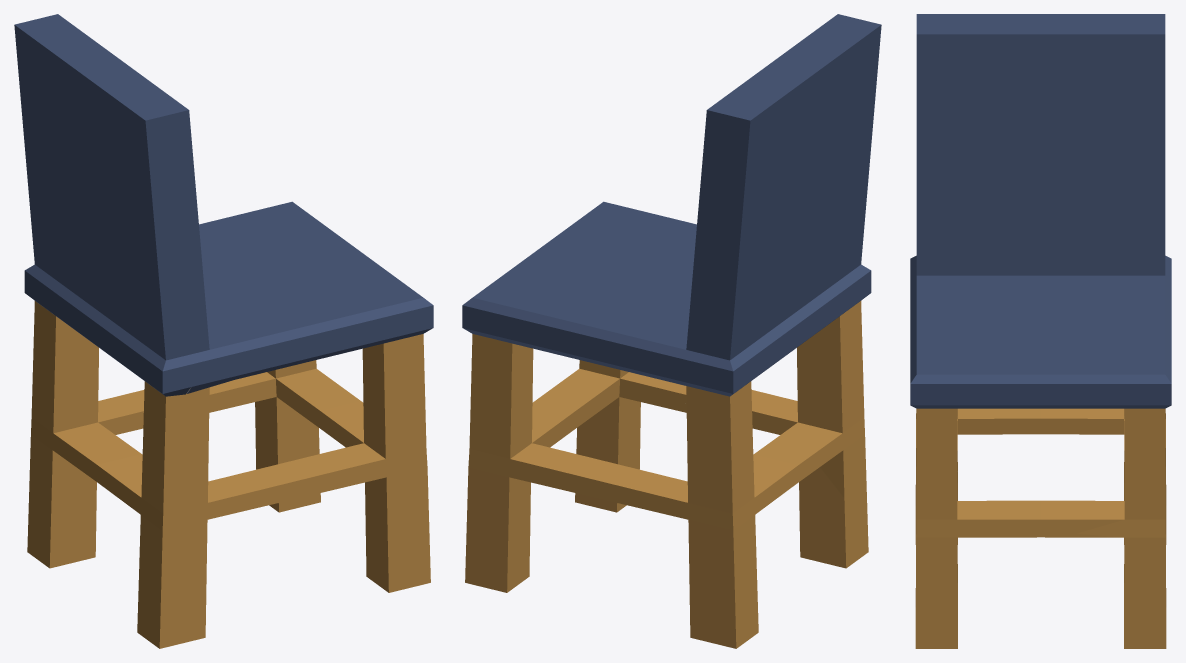
Rendered from chair.fbx.
3 views of the same model, side by side, from view 1: azimuth 30°, elevation 25°; view 2: azimuth 150°, elevation 25°; view 3: azimuth 270°, elevation 25° (orthographic). The views are drawn at different scales.
Visible parts, largest first — view 1: Cube, Cube_cell.009, Cube_cell.011, Cube_cell.004, Cube_cell.003, Cube_cell.001, Cube_cell.007, Cube_cell.010, Cube_cell.008, Cube_cell.013, Cube_cell.014, Cube_cell.015 (+3 smaller); view 2: Cube, Cube_cell.010, Cube_cell.008, Cube_cell.007, Cube_cell.003, Cube_cell.009, Cube_cell.011, Cube_cell.004, Cube_cell.014, Cube_cell.015, Cube_cell, Cube_cell.013 (+4 smaller); view 3: Cube, Cube_cell.004, Cube_cell.009, Cube_cell.015, Cube_cell.010, Cube_cell.003, Cube_cell.008, Cube_cell.001, Cube_cell.007, Cube_cell.014.
Boxes of the visible parts, box(x1,y1,x2,y2) form: Cube: box(14, 14, 433, 648); Cube_cell.009: box(247, 208, 433, 391); Cube_cell.011: box(78, 170, 207, 381); Cube_cell.004: box(42, 51, 199, 242); Cube_cell.003: box(24, 116, 88, 333); Cube_cell.001: box(181, 289, 297, 456); Cube_cell.007: box(29, 355, 144, 498); Cube_cell.010: box(33, 201, 300, 360); Cube_cell.008: box(209, 368, 334, 512); Cube_cell.013: box(82, 325, 191, 466); Cube_cell.014: box(100, 452, 163, 572); Cube_cell.015: box(302, 396, 422, 582); Cube: box(463, 14, 880, 648); Cube_cell.010: box(462, 284, 752, 455); Cube_cell.008: box(465, 357, 600, 592); Cube_cell.007: box(587, 421, 802, 574); Cube_cell.003: box(689, 126, 795, 412); Cube_cell.009: box(482, 201, 696, 290); Cube_cell.011: box(785, 159, 871, 339); Cube_cell.004: box(784, 25, 881, 184); Cube_cell.014: box(685, 373, 866, 497); Cube_cell.015: box(532, 360, 685, 512); Cube_cell: box(689, 566, 747, 648); Cube_cell.013: box(788, 282, 871, 385); Cube: box(910, 14, 1171, 648); Cube_cell.004: box(916, 34, 1165, 162); Cube_cell.009: box(910, 314, 1152, 444); Cube_cell.015: box(915, 444, 1083, 648); Cube_cell.010: box(1063, 242, 1171, 428); Cube_cell.003: box(1062, 51, 1171, 270); Cube_cell.008: box(1077, 433, 1166, 648); Cube_cell.001: box(979, 275, 1064, 312); Cube_cell.007: box(1041, 408, 1165, 468); Cube_cell.014: box(957, 409, 1048, 471).
Size of the model in its own units: 51.73 by 92.19 by 43.41.
